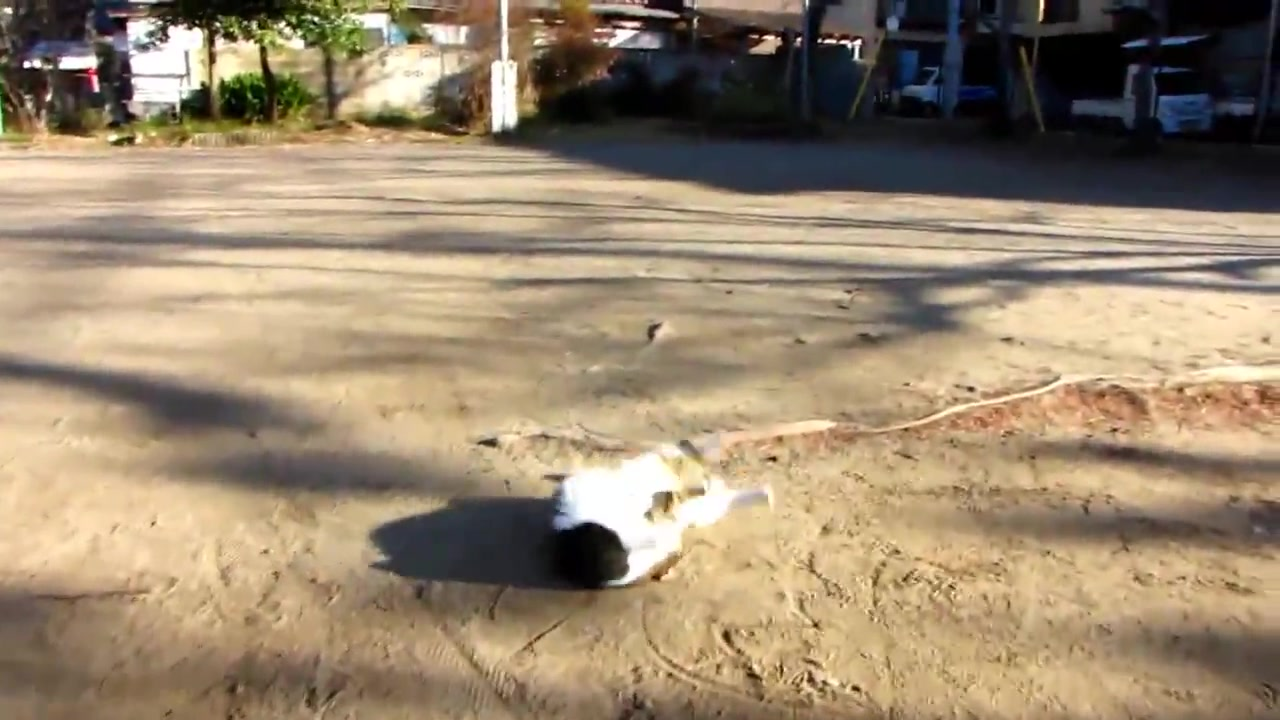cat: (547, 435, 778, 592)
